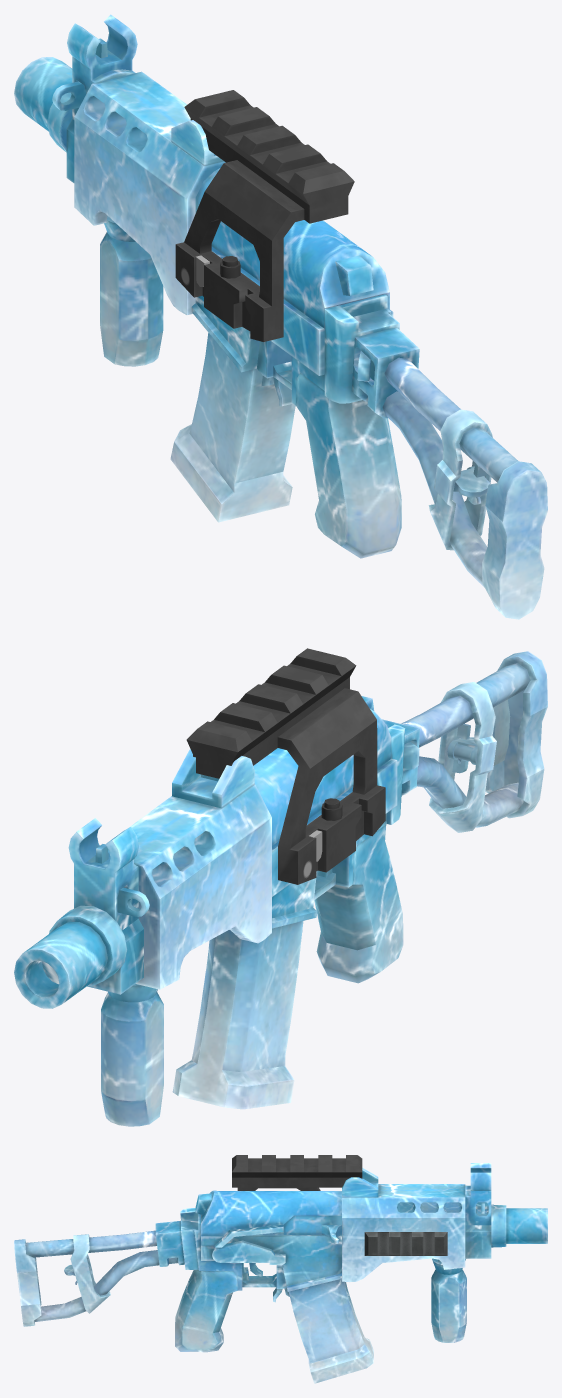
Rendered from IG_Gun_SR3M_Ice.fbx.
The picture shows the model from 3 angles, top to bottom: view 1: azimuth 30°, elevation 25°; view 2: azimuth 150°, elevation 25°; view 3: azimuth 270°, elevation 25°; orthographic projection. The views are drawn at different scales.
Parts seen in each view (by area): view 1: WPN_SR3M, HideIf_Stock, ShowIf_Scope, HideIf_Muzzle, HideIf_Scope; view 2: WPN_SR3M, ShowIf_Scope, HideIf_Stock, HideIf_Muzzle, HideIf_Scope; view 3: WPN_SR3M, HideIf_Stock, ShowIf_Scope, HideIf_Muzzle, ShowIf_Tec, HideIf_Scope.
Part boxes in pixels (x1,y1,x2,y2): WPN_SR3M: (52, 14, 401, 558); HideIf_Stock: (351, 327, 547, 619); ShowIf_Scope: (175, 90, 354, 341); HideIf_Muzzle: (14, 57, 72, 152); HideIf_Scope: (171, 120, 223, 165); WPN_SR3M: (68, 696, 405, 1126); ShowIf_Scope: (186, 648, 385, 884); HideIf_Stock: (382, 651, 547, 832); HideIf_Muzzle: (14, 905, 127, 1008); HideIf_Scope: (172, 749, 254, 808); WPN_SR3M: (175, 1163, 491, 1383); HideIf_Stock: (14, 1220, 184, 1326); ShowIf_Scope: (232, 1155, 362, 1190); HideIf_Muzzle: (491, 1204, 547, 1247); ShowIf_Tec: (364, 1232, 447, 1255); HideIf_Scope: (342, 1167, 378, 1197).
Size of the model in its own units: 0.1455 by 0.4129 by 0.9336.
